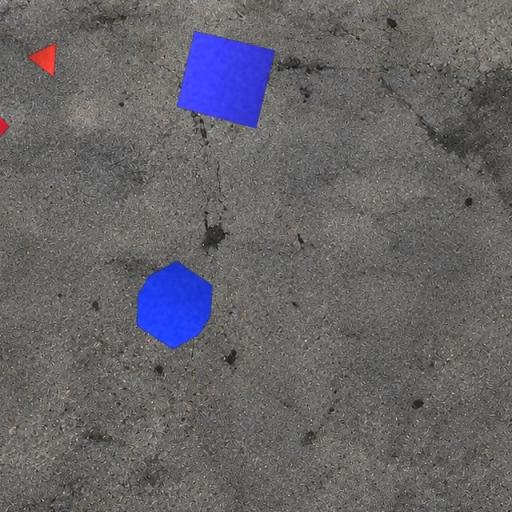BLUE_SQUARE: (176, 30, 276, 129)
